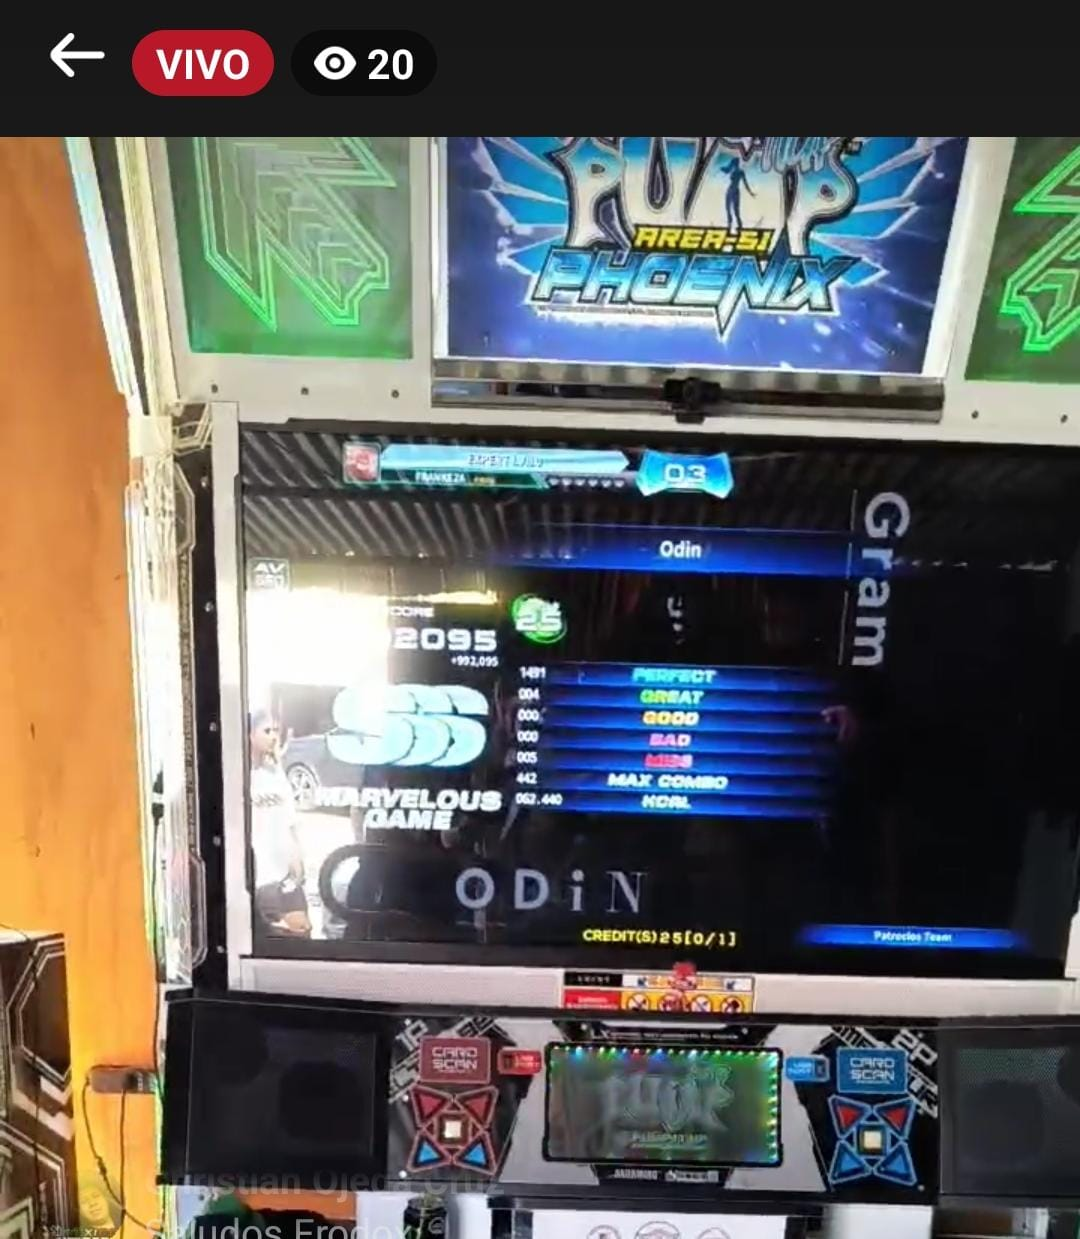difficulty: (507, 599, 581, 646)
fullscore: (201, 394, 1025, 975), (314, 589, 509, 669)
rank: (306, 665, 500, 775)
song_name: (533, 517, 897, 585)
